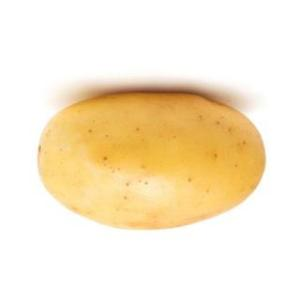potato: (37, 94, 267, 230)
